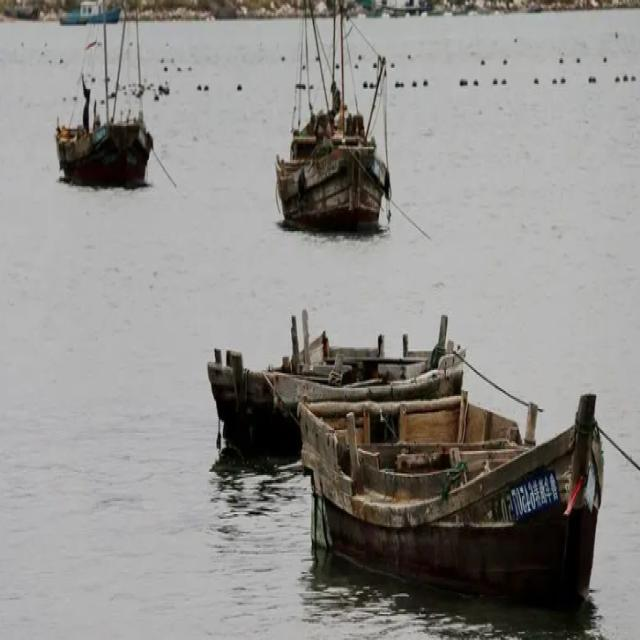fishing boat: (291, 384, 603, 604), (197, 290, 470, 461), (274, 0, 398, 241), (51, 0, 155, 189)
